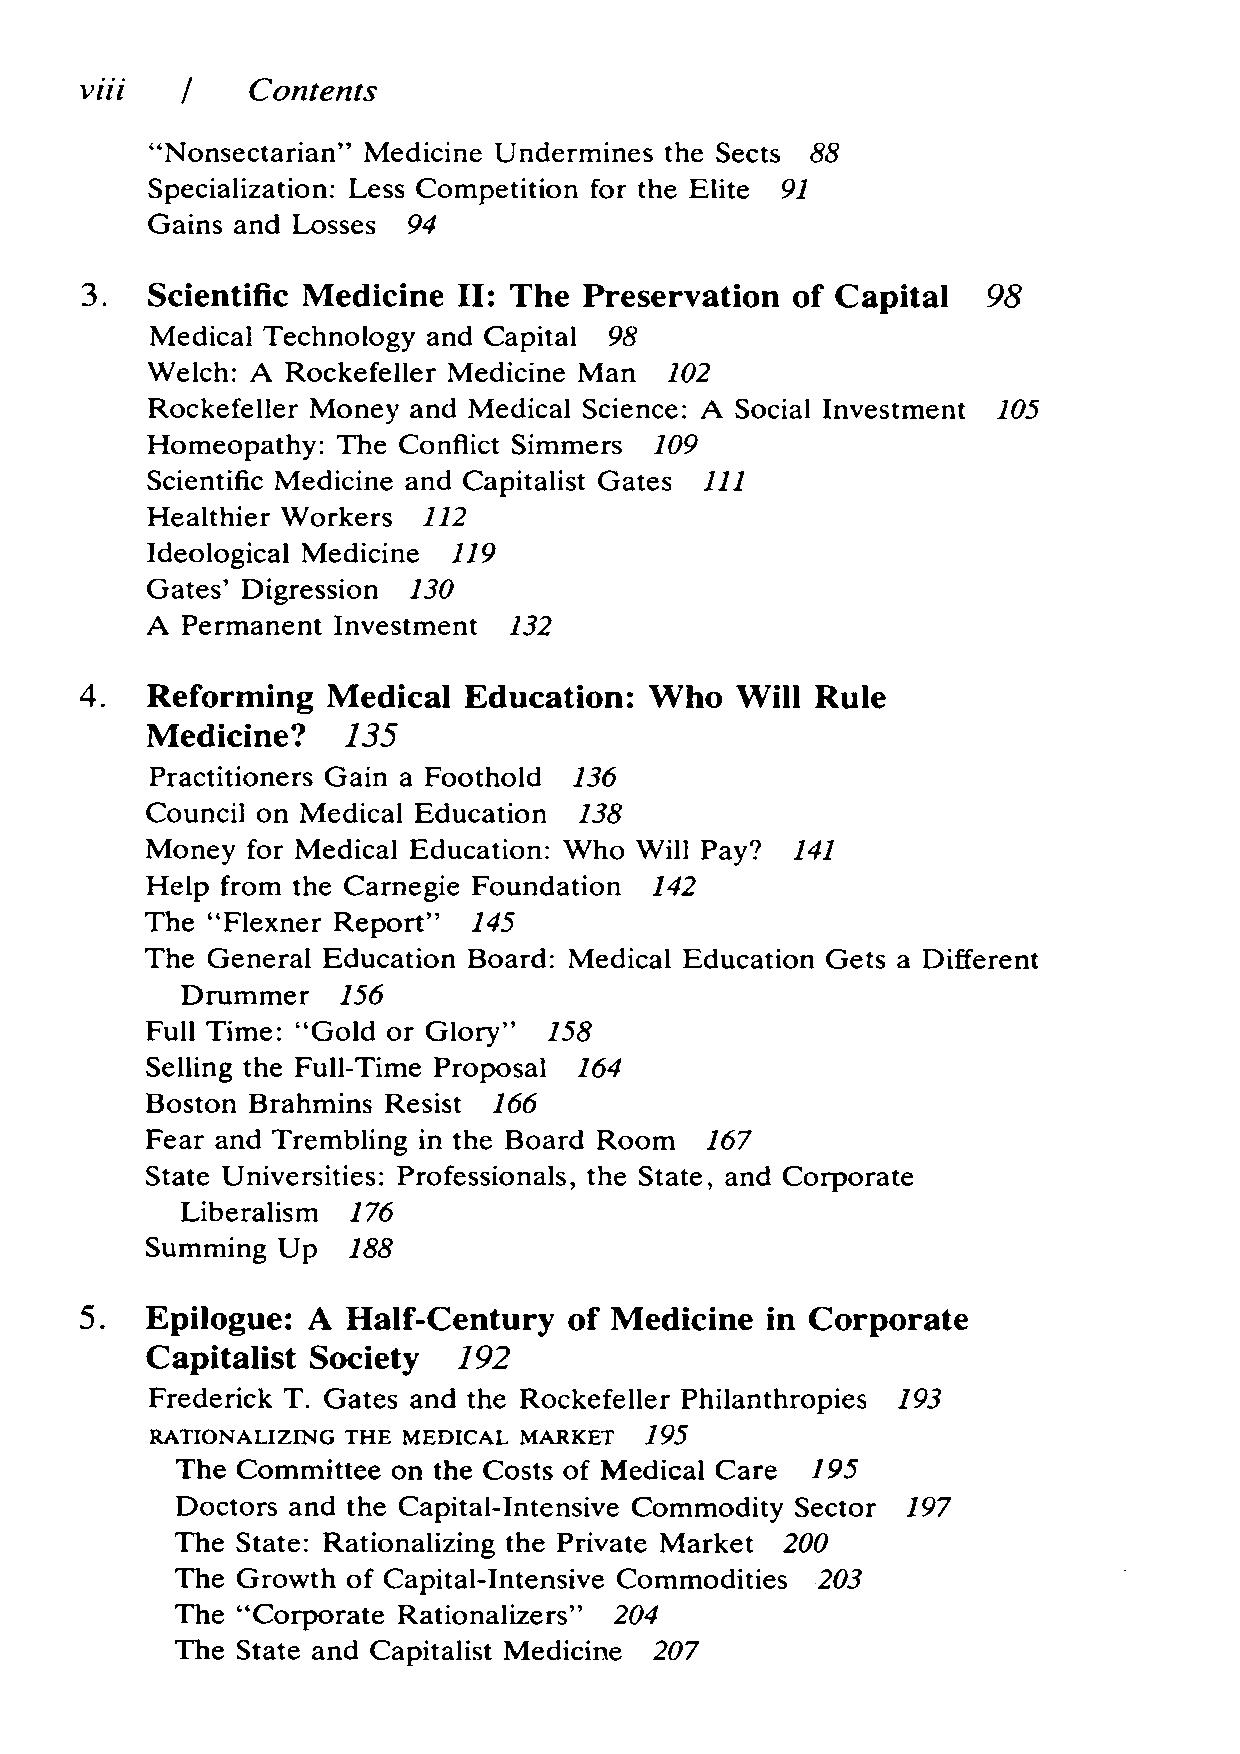TOC_chapter: (60, 672, 888, 715), (70, 278, 957, 315), (70, 1303, 969, 1337), (134, 1157, 918, 1193), (144, 946, 1052, 976), (140, 395, 968, 427), (137, 1384, 878, 1417), (140, 173, 760, 209), (144, 833, 761, 866), (169, 1495, 887, 1522), (146, 137, 784, 166), (146, 354, 640, 392), (170, 1635, 629, 1673), (170, 1529, 758, 1558), (169, 1457, 777, 1486), (137, 1127, 679, 1155), (144, 319, 578, 354), (141, 1051, 552, 1087), (141, 874, 623, 905), (137, 1424, 628, 1453), (141, 468, 678, 495), (156, 433, 633, 463), (170, 1598, 574, 1632), (170, 1566, 790, 1588), (140, 798, 550, 829), (137, 1088, 466, 1125), (146, 761, 548, 790), (134, 1015, 517, 1044), (146, 611, 482, 644), (137, 907, 437, 939), (137, 1343, 420, 1376), (144, 209, 384, 242), (140, 541, 424, 566), (140, 573, 381, 603), (137, 505, 403, 530), (141, 1235, 321, 1261), (141, 721, 309, 749), (176, 981, 309, 1013), (176, 1200, 329, 1227)
TOC_pagenumber: (894, 1376, 946, 1417), (450, 1343, 518, 1373), (900, 1488, 955, 1525), (570, 761, 632, 793), (640, 1417, 694, 1453), (650, 1632, 706, 1665), (344, 718, 400, 750), (696, 464, 749, 498), (770, 170, 819, 207), (507, 611, 557, 646), (488, 1088, 541, 1121), (786, 833, 841, 863), (815, 1561, 864, 1593), (569, 1053, 625, 1082), (348, 1231, 399, 1261), (403, 205, 446, 242), (658, 360, 722, 384), (706, 1121, 756, 1151), (334, 981, 393, 1007), (777, 1529, 836, 1554), (809, 1453, 859, 1483), (542, 1019, 599, 1044), (800, 137, 848, 166), (986, 280, 1033, 310), (416, 503, 472, 527), (992, 395, 1044, 420), (409, 576, 462, 601), (345, 1200, 403, 1223), (652, 432, 701, 459), (615, 1598, 660, 1627), (576, 804, 625, 829), (450, 539, 502, 564), (652, 874, 705, 898), (601, 323, 645, 349), (471, 910, 521, 931)
chapter: (246, 68, 382, 107)
